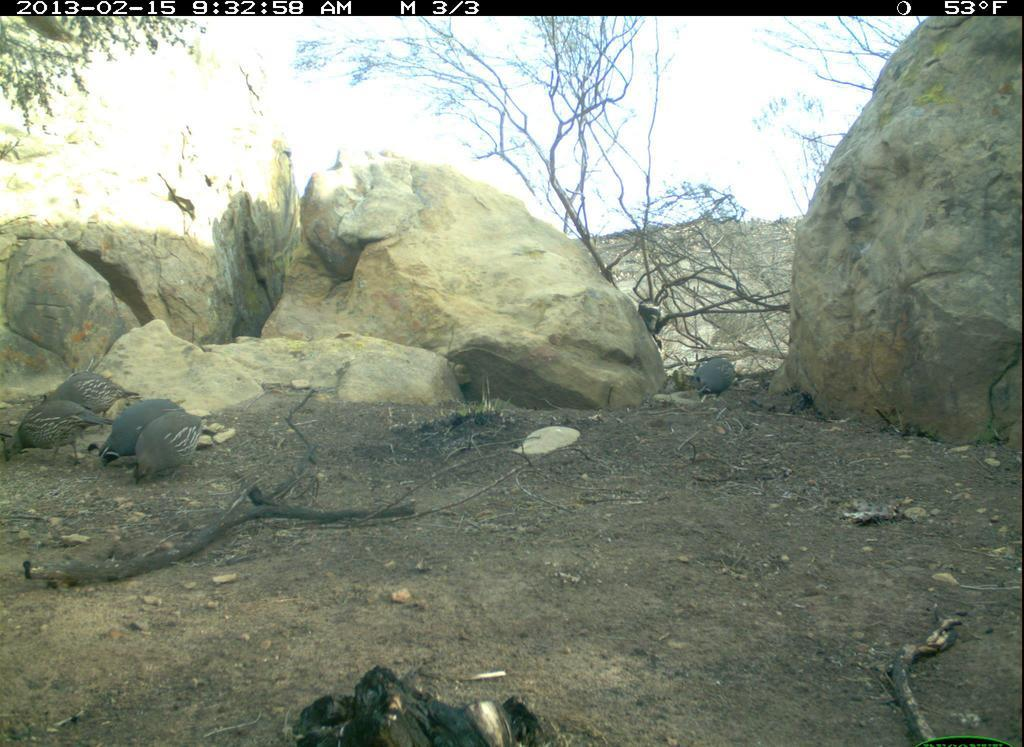bird: (22, 373, 122, 431)
